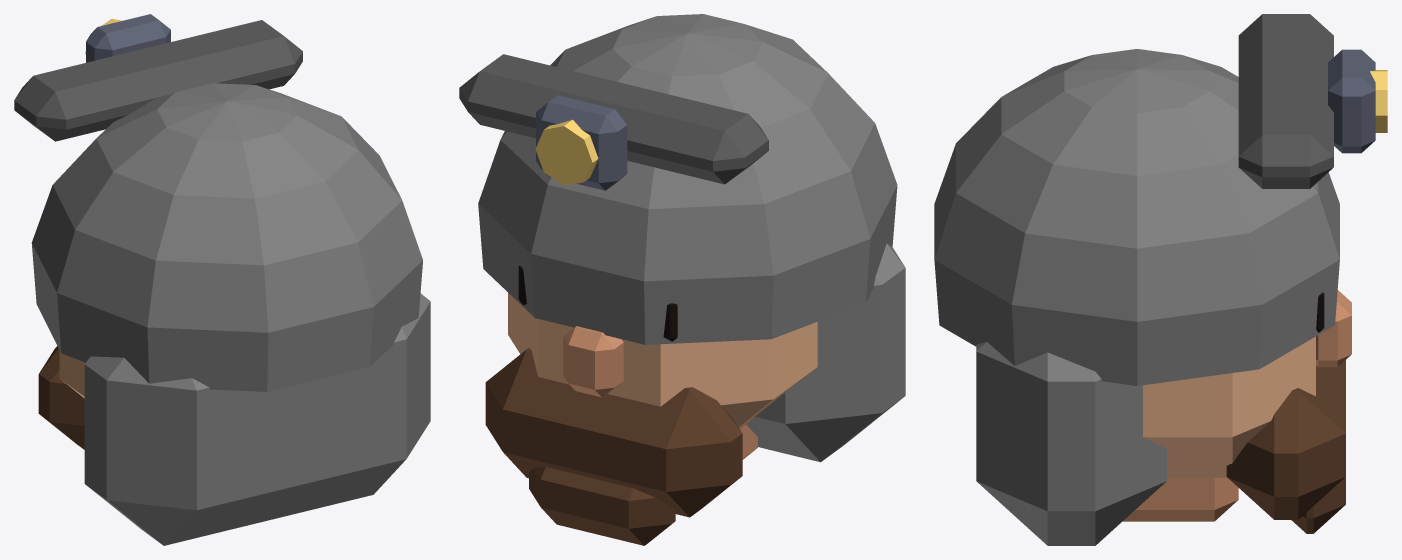
Rendered from becchino_testa.glb.
The picture shows the model from 3 angles, left to right: view 1: azimuth 30°, elevation 25°; view 2: azimuth 150°, elevation 25°; view 3: azimuth 270°, elevation 25°; orthographic projection. The views are drawn at different scales.
Visible parts, largest first — view 1: becchino_testa2; view 2: becchino_testa2; view 3: becchino_testa2.
Part boxes in pixels (<box>): becchino_testa2: <box>14,14,430,545</box>; becchino_testa2: <box>459,14,905,545</box>; becchino_testa2: <box>934,14,1387,545</box>.
Size of the model in its own units: 0.3577 by 0.415 by 0.3801.
